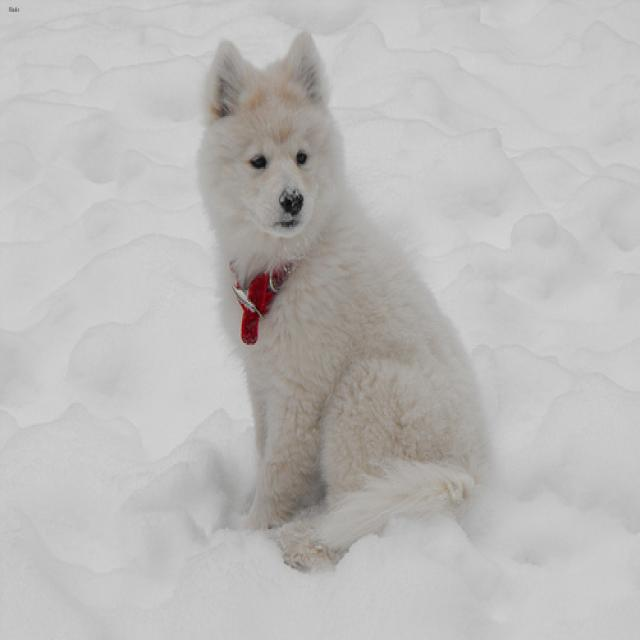dog-samoyed: (191, 24, 499, 584)
